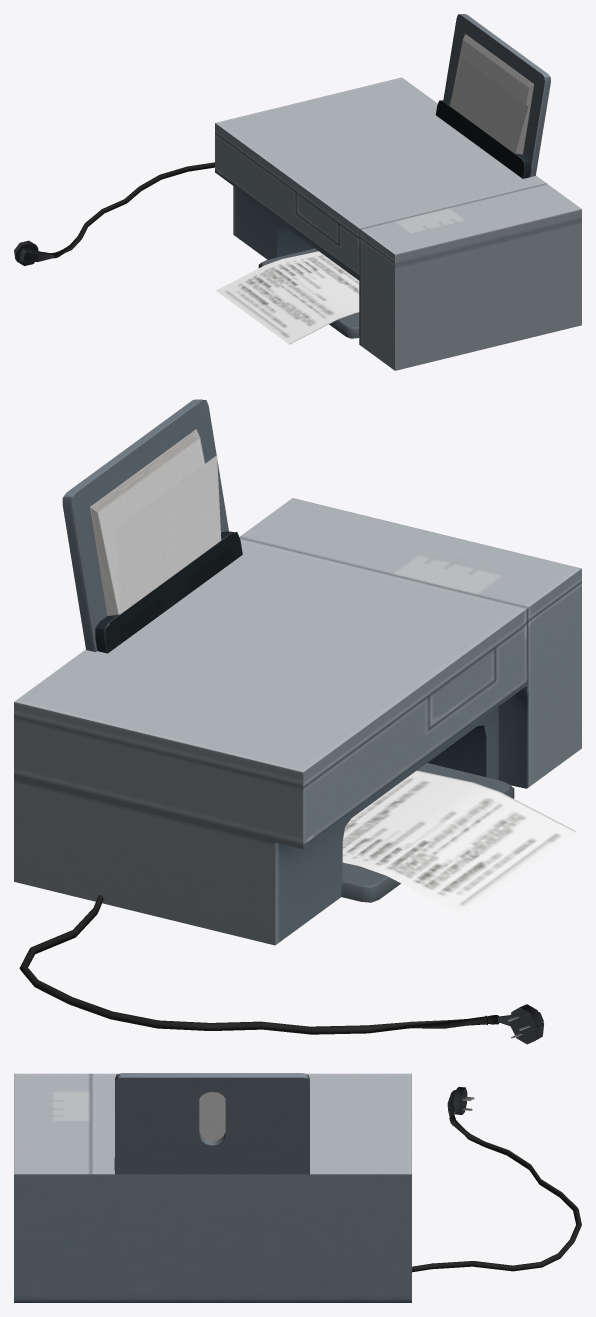
File: ZhiBanShi_01_dayinji_01.FBX
3 views of the same model, one above another, from view 1: azimuth 30°, elevation 25°; view 2: azimuth 150°, elevation 25°; view 3: azimuth 270°, elevation 25° (orthographic). The views are drawn at different scales.
Parts seen in each view (by area): view 1: ZhiBanShi_dayinji_01; view 2: ZhiBanShi_dayinji_01; view 3: ZhiBanShi_dayinji_01.
Part boxes in pixels (x1,y1,x2,y2): ZhiBanShi_dayinji_01: (14, 14, 581, 370); ZhiBanShi_dayinji_01: (14, 399, 581, 1044); ZhiBanShi_dayinji_01: (14, 1073, 581, 1302).
Size of the model in its own units: 263 by 141 by 308.
